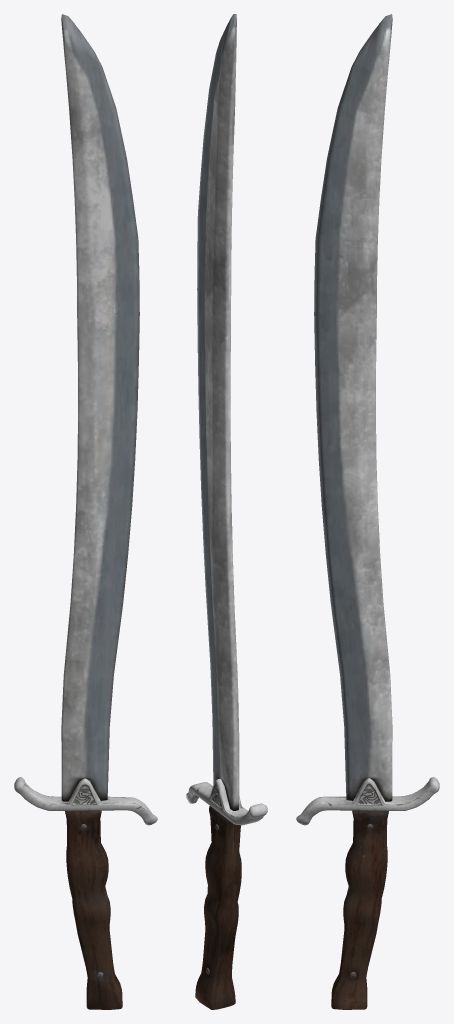
Rendered from wooden_handle_saber.glb.
3 renders of one model, left to right at view 1: azimuth 90°, elevation 25°; view 2: azimuth 210°, elevation 25°; view 3: azimuth 270°, elevation 25°, orthographic.
Parts seen in each view (by area): view 1: wooden_handle_saber; view 2: wooden_handle_saber; view 3: wooden_handle_saber.
Part boxes in pixels (box(x1,y1,x2,y2)): wooden_handle_saber: box(14, 14, 157, 1009); wooden_handle_saber: box(186, 14, 267, 1009); wooden_handle_saber: box(296, 14, 439, 1009).
Bounding box in the file's own units: 0.0257 × 0.9355 × 0.1228.
Materials: 1 (1 with a texture image).
